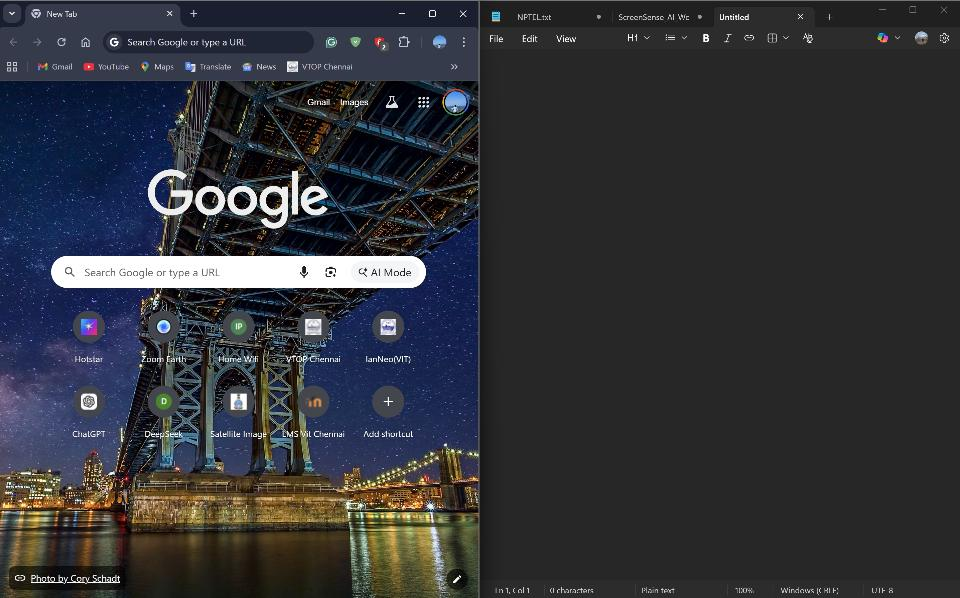close_button: (452, 1, 474, 26), (937, 1, 956, 23)
maximize_button: (421, 1, 445, 27), (904, 2, 927, 24)
minimize_button: (870, 4, 899, 25), (390, 1, 412, 24)
